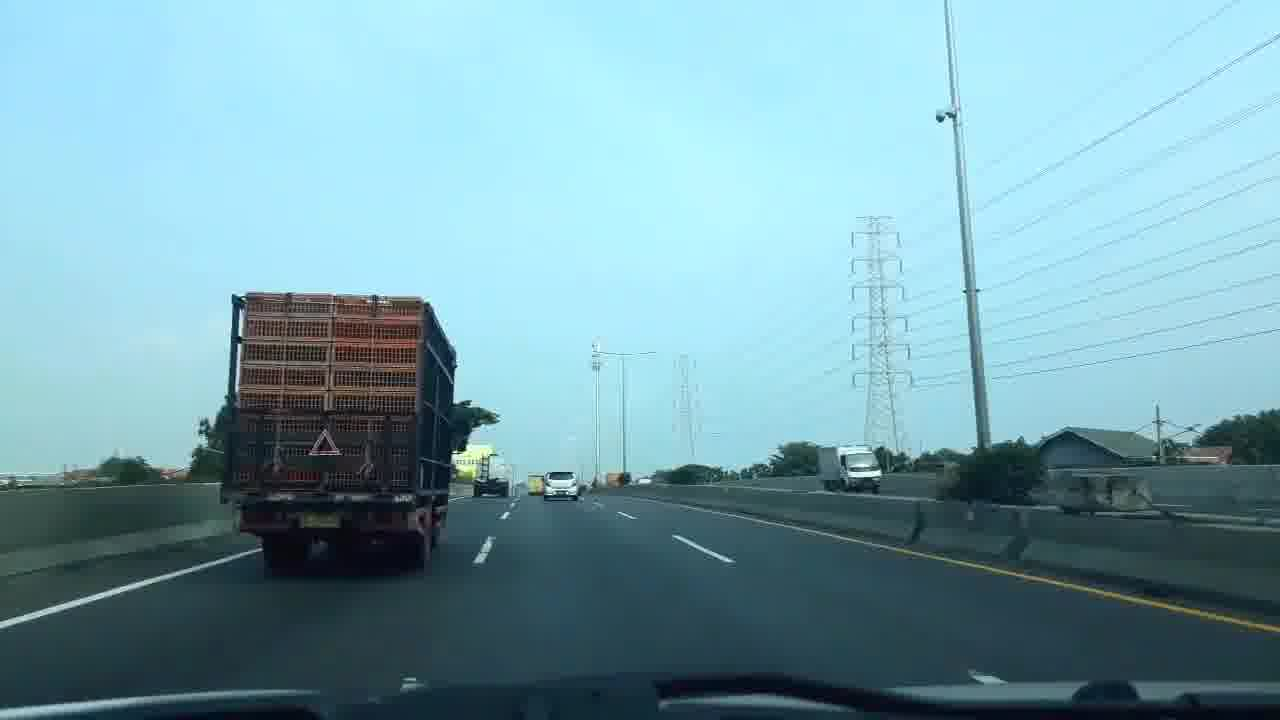plate_positive: (298, 511, 340, 527), (556, 491, 566, 495)
